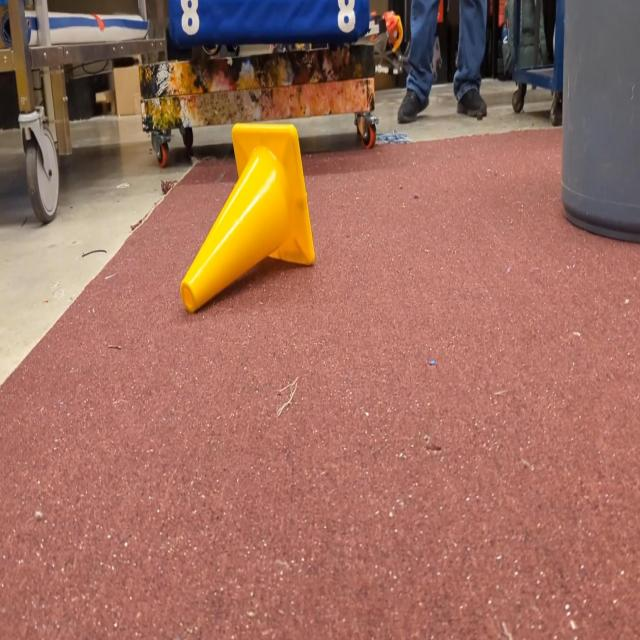frc_cone: (182, 123, 316, 314)
